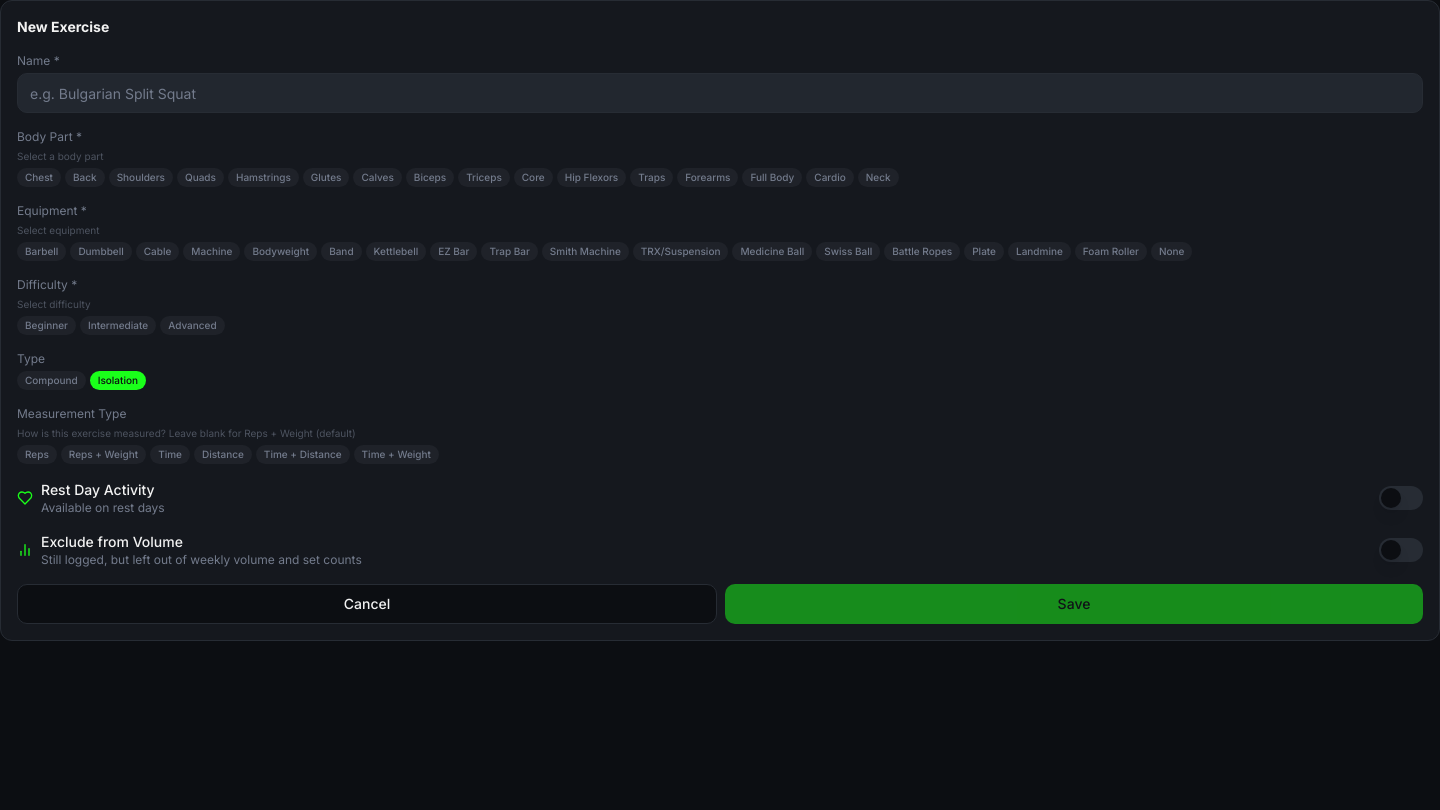
Test: CreateExerciseForm measurement type honesty › says the blank default is Time for Cardio and Reps + Weight elsewhere
Click the button "Chest": click(39, 178) [17,168,61,187]
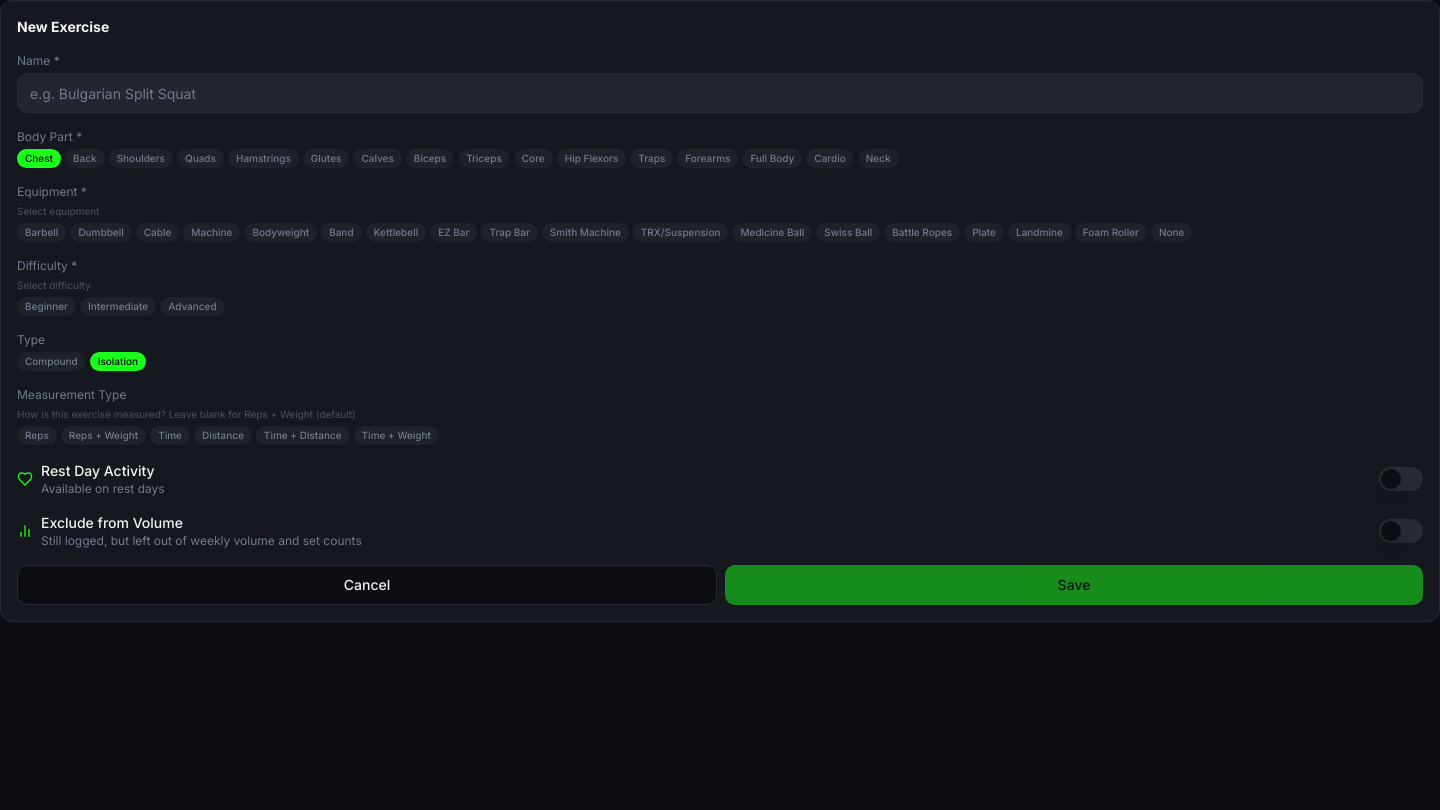
Check: the text "Leave blank for Reps + Weight (default)" is shown, box [17,408,356,420]
Click the button "Cardio": click(830, 158) [806,149,854,168]
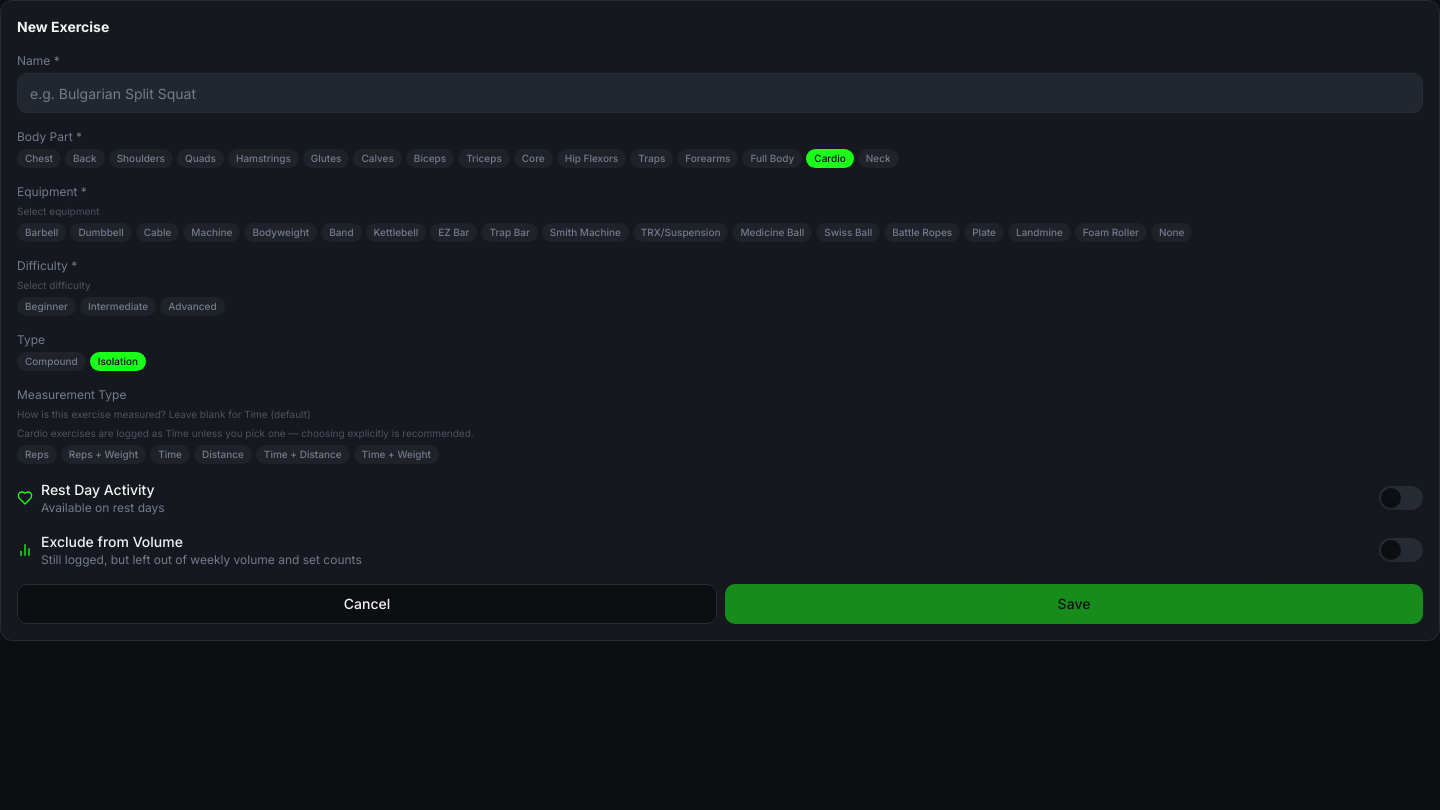
Check: the text "Leave blank for Time (default)" is shown, box [17,408,311,420]
Check: the text "choosing explicitly is recommended" is shown, box [17,427,474,439]
Click the button "Time + Distance": click(303, 454) [256,445,350,464]
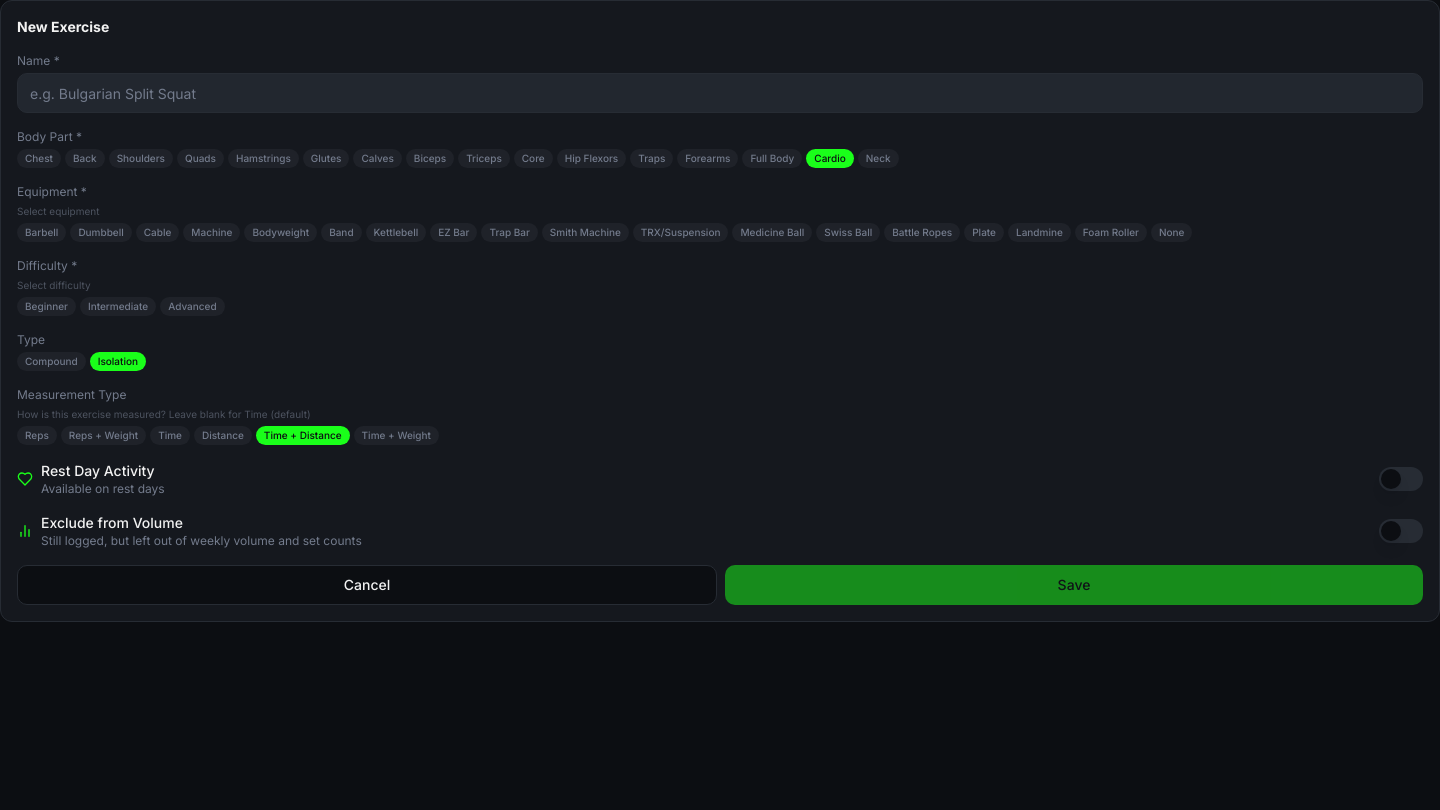
Check: the text "choosing explicitly is recommended" is gone
